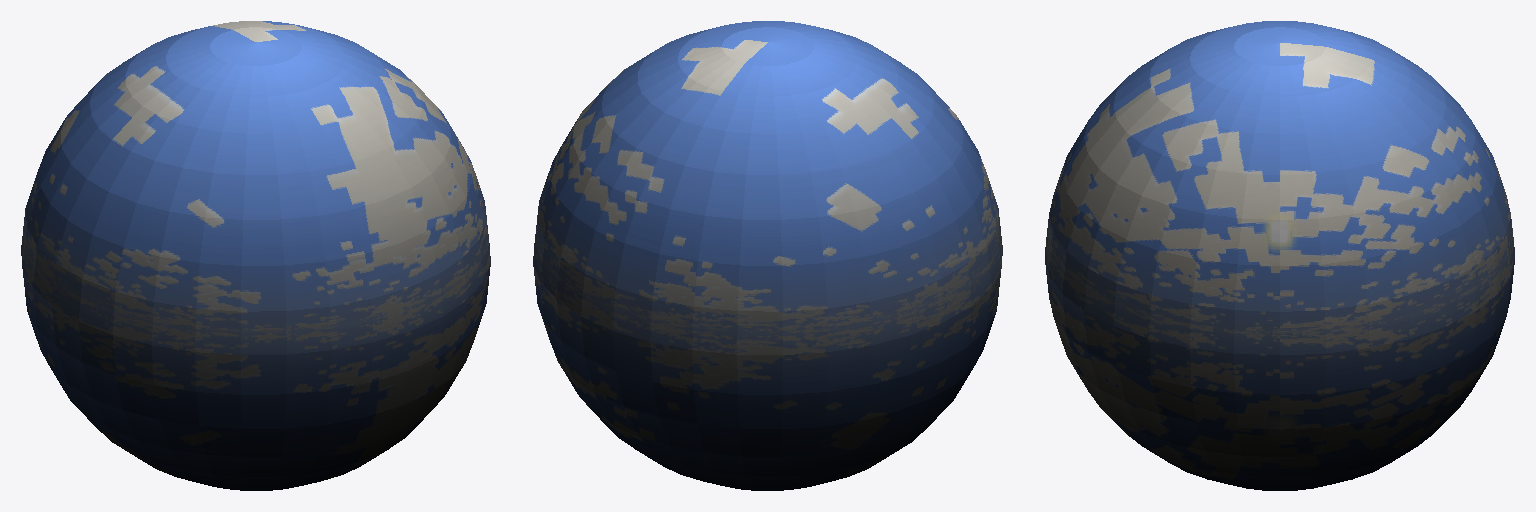
3 renders of one model, left to right at view 1: azimuth 30°, elevation 25°; view 2: azimuth 150°, elevation 25°; view 3: azimuth 270°, elevation 25°, orthographic.
Visible parts, largest first — view 1: skybox_skybox_0; view 2: skybox_skybox_0; view 3: skybox_skybox_0.
Boxes of the visible parts, <box> form: skybox_skybox_0: <box>21,21,490,490</box>; skybox_skybox_0: <box>533,21,1002,490</box>; skybox_skybox_0: <box>1045,21,1514,490</box>.
Bounding box in the file's own units: 39.39 × 39.39 × 39.39.
Materials: 1 (1 with a texture image).